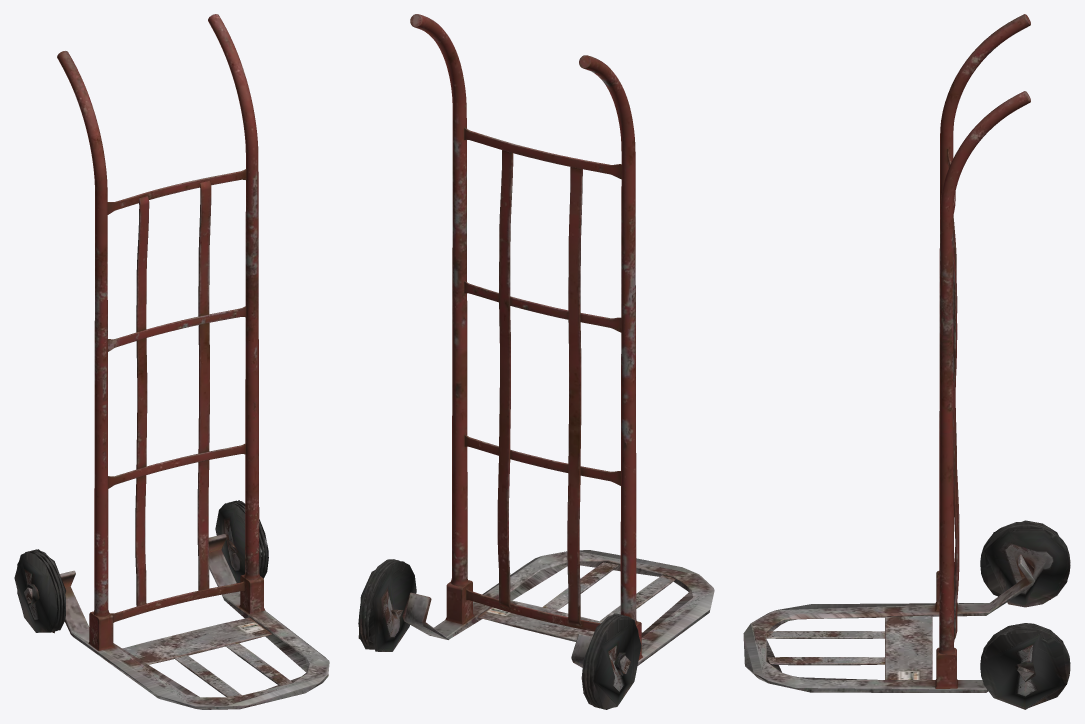
File: hand_truck.glb
3 renders of one model, left to right at view 1: azimuth 30°, elevation 25°; view 2: azimuth 150°, elevation 25°; view 3: azimuth 270°, elevation 25°, orthographic. The views are drawn at different scales.
Parts seen in each view (by area): view 1: hand_truck; view 2: hand_truck; view 3: hand_truck.
Part boxes in pixels (x1,y1,x2,y2): hand_truck: [14, 14, 329, 709]; hand_truck: [358, 14, 714, 709]; hand_truck: [743, 14, 1070, 709].
Bounding box in the file's own units: 0.5789 × 1.4 × 0.6907.
1 material, 1 textured.
